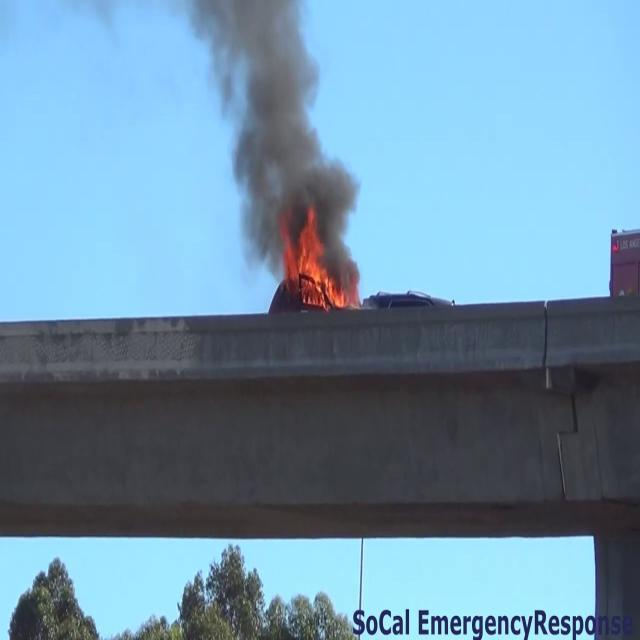Fire: (288, 220, 346, 310)
Smoke: (190, 0, 360, 257)
